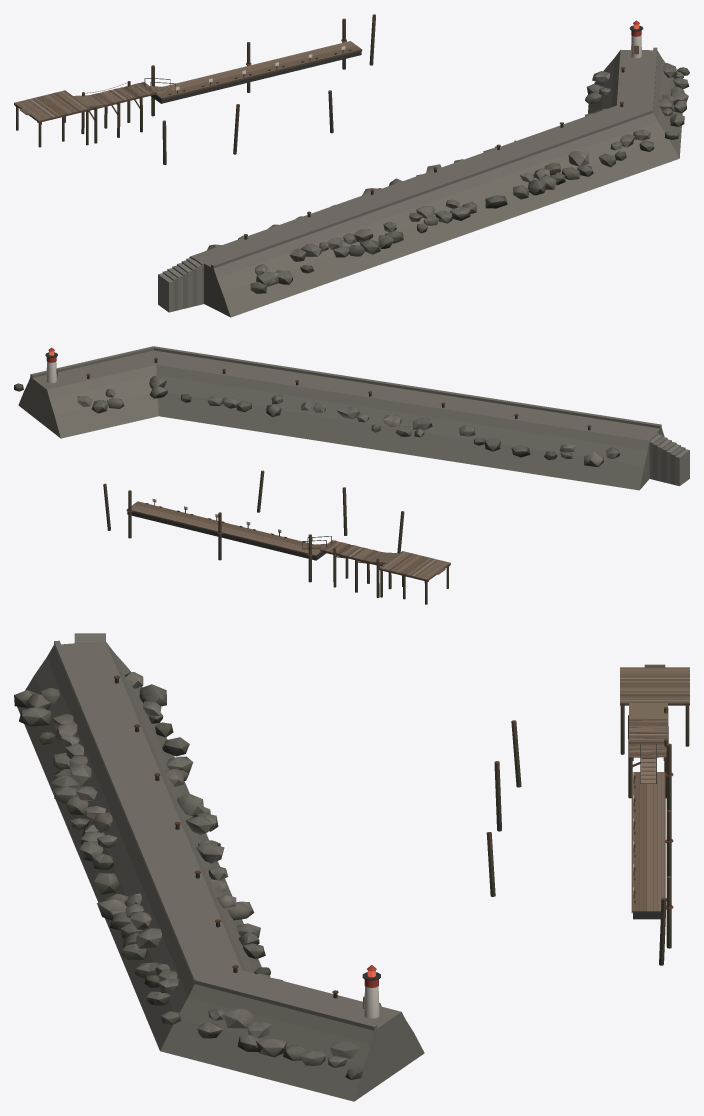
The picture shows the model from 3 angles, top to bottom: view 1: azimuth 30°, elevation 25°; view 2: azimuth 150°, elevation 25°; view 3: azimuth 270°, elevation 25°; orthographic projection. The views are drawn at different scales.
Parts seen in each view (by area): view 1: walk_mole, breakwater, pier, mole_curb_v3, walk_mole_steps; view 2: walk_mole, pier, breakwater, mole_curb_v3, walk_mole_steps; view 3: walk_mole, breakwater, pier, mole_curb_v3, walk_pontoon_underlay.
Part boxes in pixels (x1=…): walk_mole: x1=189, y1=49, x2=683, y2=317; breakwater: x1=206, y1=20, x2=689, y2=293; pier: x1=14, y1=14, x2=375, y2=164; mole_curb_v3: x1=211, y1=47, x2=657, y2=268; walk_mole_steps: x1=158, y1=255, x2=205, y2=312; walk_mole: x1=18, y1=350, x2=664, y2=490; pier: x1=103, y1=470, x2=450, y2=604; breakwater: x1=14, y1=347, x2=620, y2=466; mole_curb_v3: x1=30, y1=346, x2=661, y2=428; walk_mole_steps: x1=644, y1=432, x2=689, y2=486; walk_mole: x1=17, y1=641, x2=424, y2=1101; breakwater: x1=14, y1=672, x2=381, y2=1079; pier: x1=486, y1=664, x2=689, y2=965; mole_curb_v3: x1=54, y1=640, x2=377, y2=1030; walk_pontoon_underlay: x1=632, y1=772, x2=661, y2=911.
Size of the model in its own units: 78.31 by 9.6 by 52.19.
